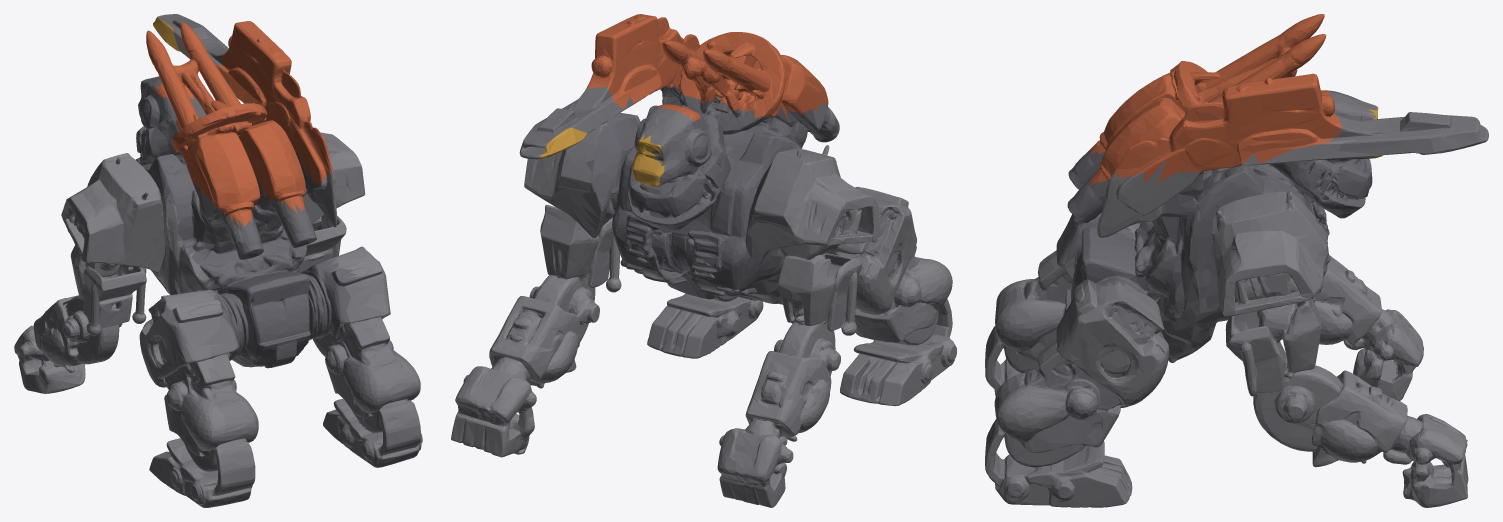
The model's file is iron-kong.glb.
3 renders of one model, left to right at view 1: azimuth 30°, elevation 25°; view 2: azimuth 150°, elevation 25°; view 3: azimuth 270°, elevation 25°, orthographic. The views are drawn at different scales.
Visible parts, largest first — view 1: leftWeapon, backMount, tail, rightLeg, core, leftLeg, rightWeapon, head; view 2: leftWeapon, core, rightWeapon, backMount, head, rightLeg, leftLeg, headWeapon; view 3: rightWeapon, backMount, rightLeg, core, leftWeapon, leftLeg, tail, head.
Part boxes in pixels (x1,y1,x2,y2): leftWeapon: (14, 153, 243, 507); backMount: (146, 21, 332, 228); tail: (205, 214, 361, 368); rightLeg: (292, 245, 421, 467); core: (136, 81, 320, 288); leftLeg: (156, 267, 260, 506); rightWeapon: (297, 132, 422, 449); head: (138, 14, 228, 116); leftWeapon: (717, 103, 956, 507); core: (582, 83, 831, 296); rightWeapon: (451, 89, 660, 457); backMount: (587, 14, 828, 121); head: (519, 86, 699, 185); rightLeg: (647, 271, 763, 358); leftLeg: (737, 250, 945, 403); headWeapon: (538, 127, 664, 186); rightWeapon: (997, 139, 1468, 507); backMount: (1088, 14, 1342, 185); rightLeg: (985, 268, 1229, 507); core: (1081, 150, 1372, 315); leftWeapon: (985, 213, 1423, 400); leftLeg: (985, 216, 1139, 407); tail: (1057, 156, 1163, 327); head: (1327, 91, 1488, 158).
Size of the model in its own units: 3.59 by 4.38 by 4.79.
